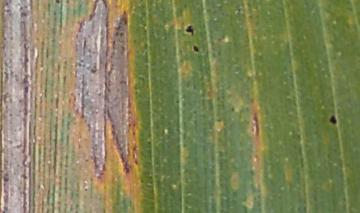tarspot: (185, 24, 195, 36), (328, 114, 338, 125), (192, 44, 200, 53), (230, 104, 236, 113), (53, 1, 62, 5), (175, 98, 180, 104)
